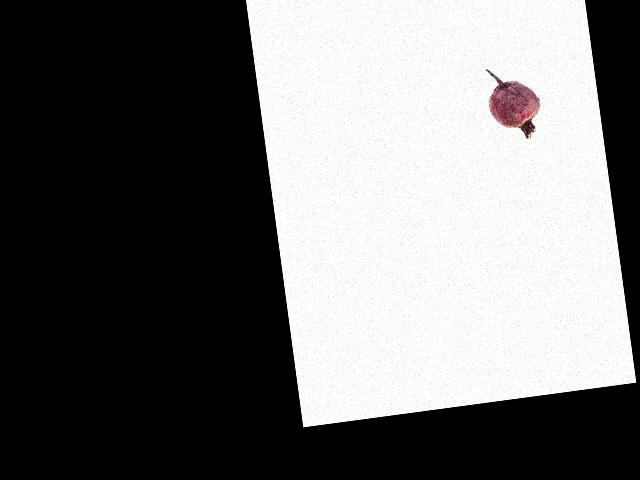beet: (484, 64, 543, 143)
